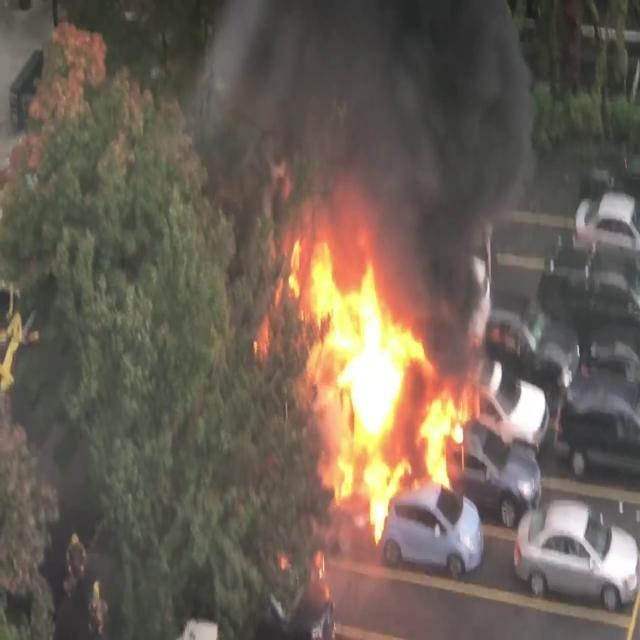Fire: (263, 220, 484, 528)
Smoke: (178, 1, 554, 258)
